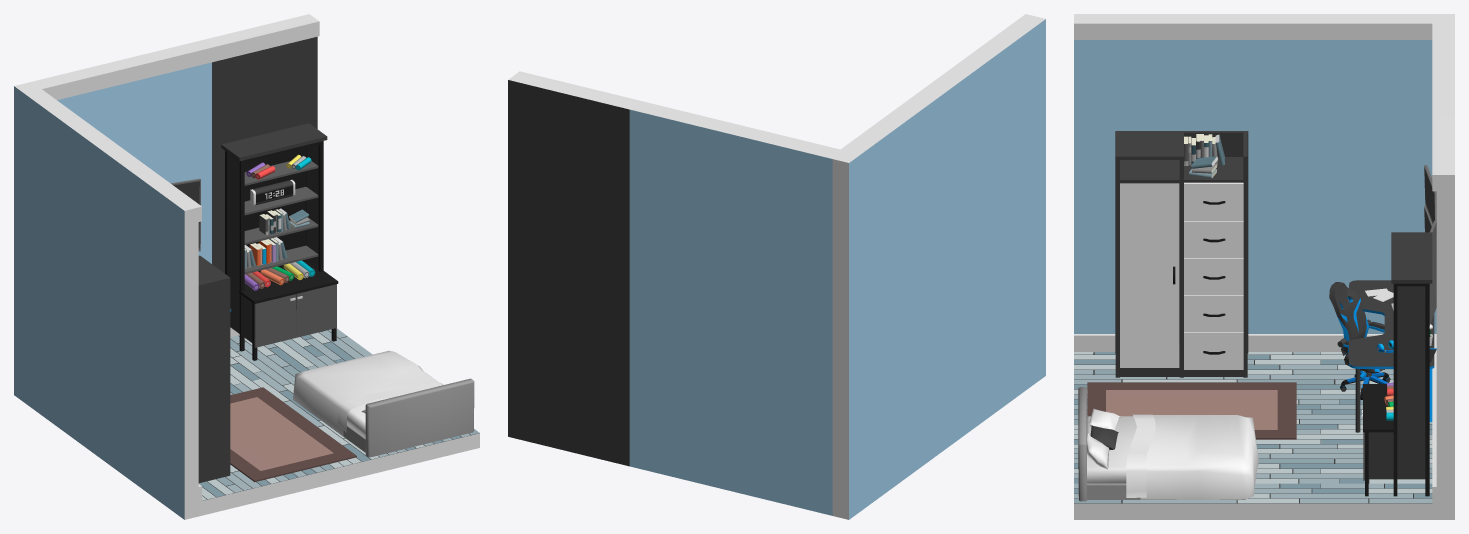
Rendered from room_8.glb.
The picture shows the model from 3 angles, left to right: view 1: azimuth 30°, elevation 25°; view 2: azimuth 150°, elevation 25°; view 3: azimuth 270°, elevation 25°; orthographic projection. The views are drawn at different scales.
Parts seen in each view (by area): view 1: Walls_172.003, shelf_028.001, Walls_172.004, bed_015.002, Walls_011.024, floor_002.002, carpet_001.006, closet_017.001, Walls_011.023, Walls_003.028, prop_029.005, prop_077.015 (+2 smaller); view 2: Walls_172.003, Walls_172.004, Walls_011.024, Walls_003.028, Walls_003.029; view 3: Walls_172.003, closet_017.001, floor_002.002, bed_015.002, shelf_028.001, Walls_011.023, carpet_001.006, Walls_011.024, Walls_003.029, office_table_038.001, Walls_003.031, office_chair_019.001 (+6 smaller).
Part boxes in pixels (box(x1,y1,x2,y2)): Walls_172.003: box(14, 82, 198, 519); shelf_028.001: box(221, 123, 338, 360); Walls_172.004: box(28, 40, 211, 263); bed_015.002: box(293, 350, 474, 457); Walls_011.024: box(204, 14, 317, 273); floor_002.002: box(198, 328, 479, 500); carpet_001.006: box(230, 387, 356, 482); closet_017.001: box(198, 255, 230, 483); Walls_011.023: box(198, 330, 479, 516); Walls_003.028: box(36, 20, 319, 99); prop_029.005: box(250, 179, 295, 205); prop_077.015: box(249, 237, 287, 265); Walls_172.003: box(832, 15, 1045, 519); Walls_172.004: box(629, 102, 841, 515); Walls_011.024: box(508, 73, 638, 466); Walls_003.028: box(518, 71, 843, 151); Walls_003.029: box(841, 14, 1028, 150); Walls_172.003: box(1074, 14, 1454, 333); closet_017.001: box(1115, 131, 1248, 377); floor_002.002: box(1074, 352, 1432, 503); bed_015.002: box(1078, 386, 1258, 501); shelf_028.001: box(1362, 232, 1432, 496); Walls_011.023: box(1074, 352, 1436, 519); carpet_001.006: box(1087, 382, 1296, 439); Walls_011.024: box(1436, 117, 1454, 519); Walls_003.029: box(1074, 21, 1432, 39); office_table_038.001: box(1349, 280, 1436, 432); Walls_003.031: box(1074, 334, 1382, 352); office_chair_019.001: box(1329, 282, 1390, 399).
Bounding box in the file's own units: 4.2 × 4.2 × 4.2.
Materials: 1 (1 with a texture image).
